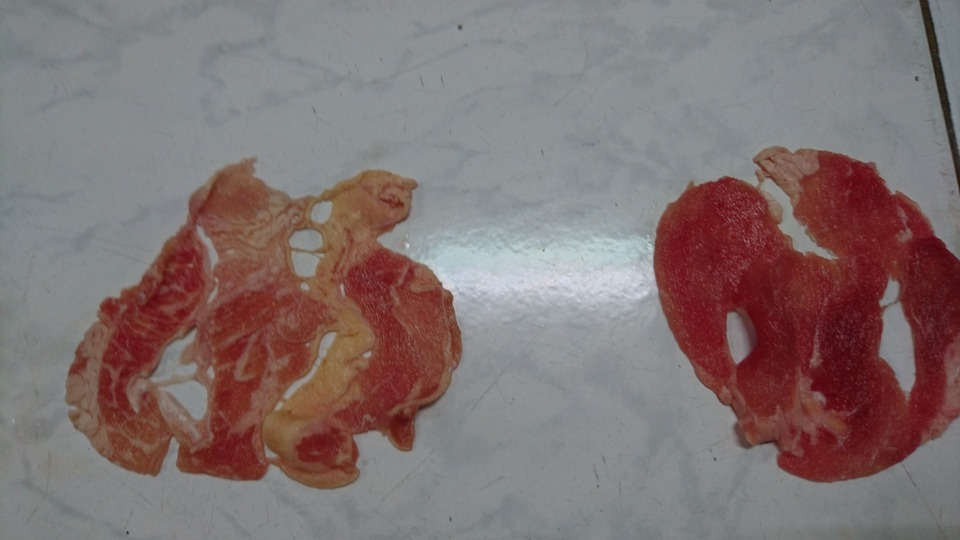restructured meat: (58, 160, 489, 488), (638, 157, 960, 481)
